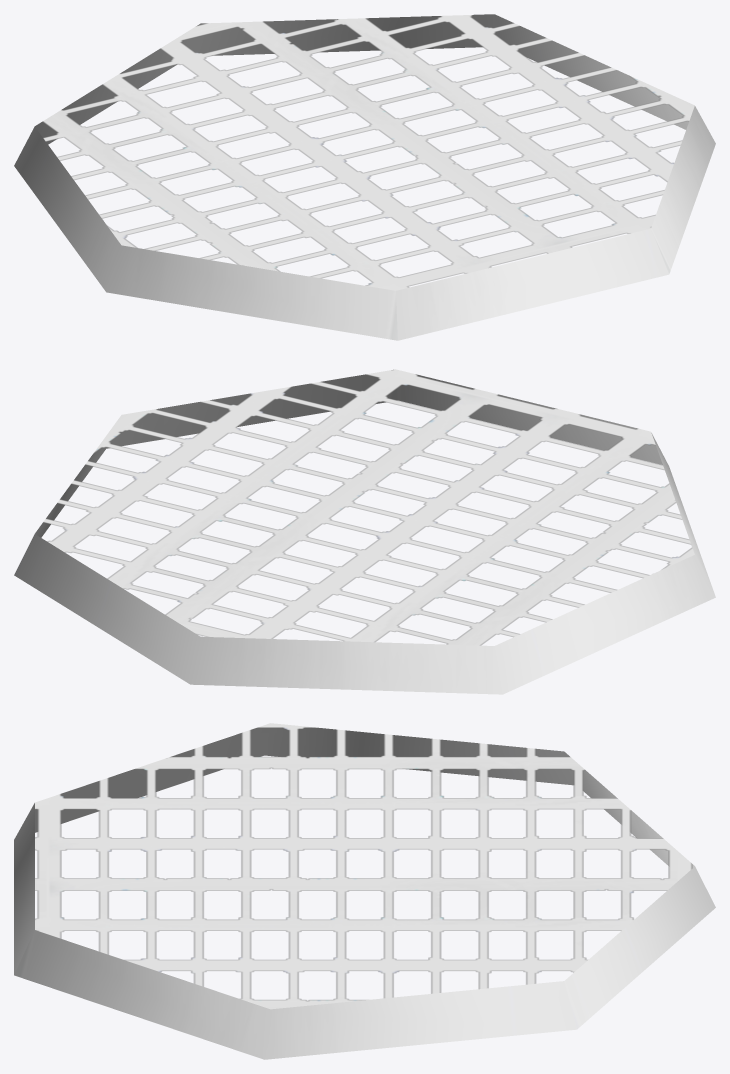
File: Basket_Tapa-col.glb
The picture shows the model from 3 angles, top to bottom: view 1: azimuth 30°, elevation 25°; view 2: azimuth 150°, elevation 25°; view 3: azimuth 270°, elevation 25°; orthographic projection. The views are drawn at different scales.
Parts seen in each view (by area): view 1: Basket_Tapa-col; view 2: Basket_Tapa-col; view 3: Basket_Tapa-col.
Boxes of the visible parts, left/top/right/bottom form: Basket_Tapa-col: left=14, top=14, right=715, bottom=340; Basket_Tapa-col: left=14, top=369, right=715, bottom=694; Basket_Tapa-col: left=14, top=723, right=715, bottom=1059.
Size of the model in its own units: 0.79 by 0.0502 by 0.7702.
Materials: 1 (1 with a texture image).
